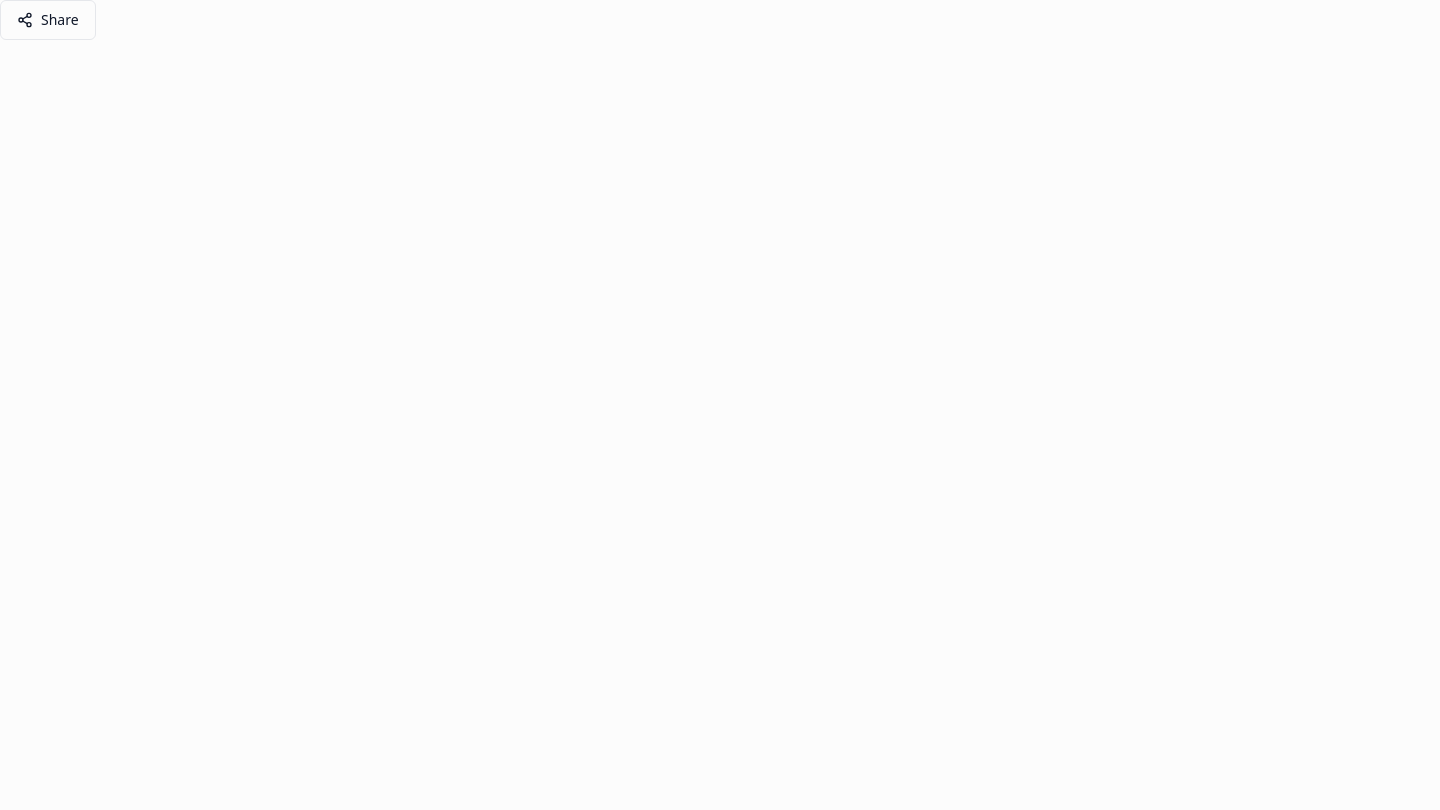
Test: ShareCompanyDialog › shares all analyses only when the checkbox is selected
This screenshot has width=1440, height=810.
Later steps or results of the test are not shown.
Click the button "Share".
click(48, 20)  # box [0,0,96,40]
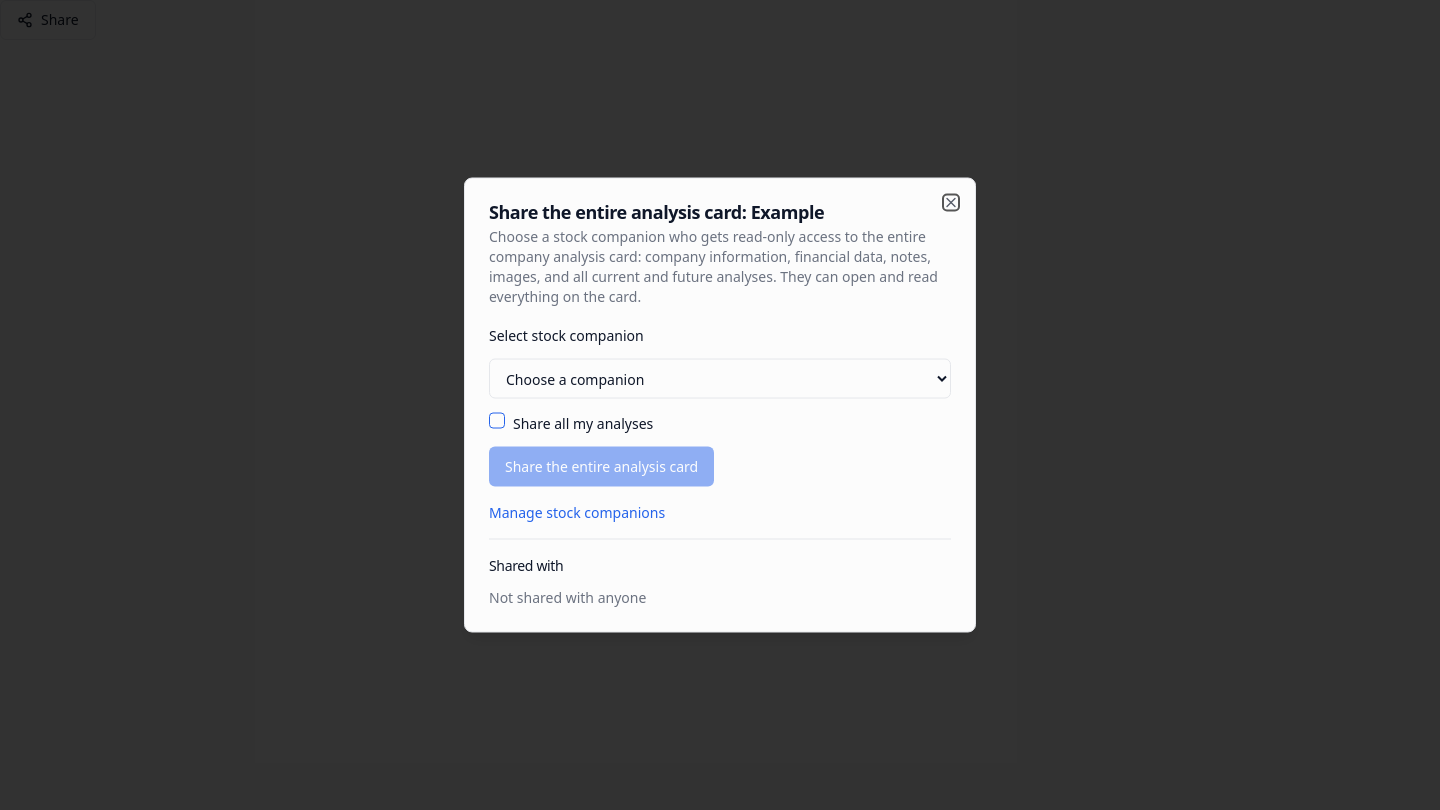
Select "Reader (reader@example.com)" in the dropdown labelled "Select stock companion" at (720, 378), box [489,358,951,398]
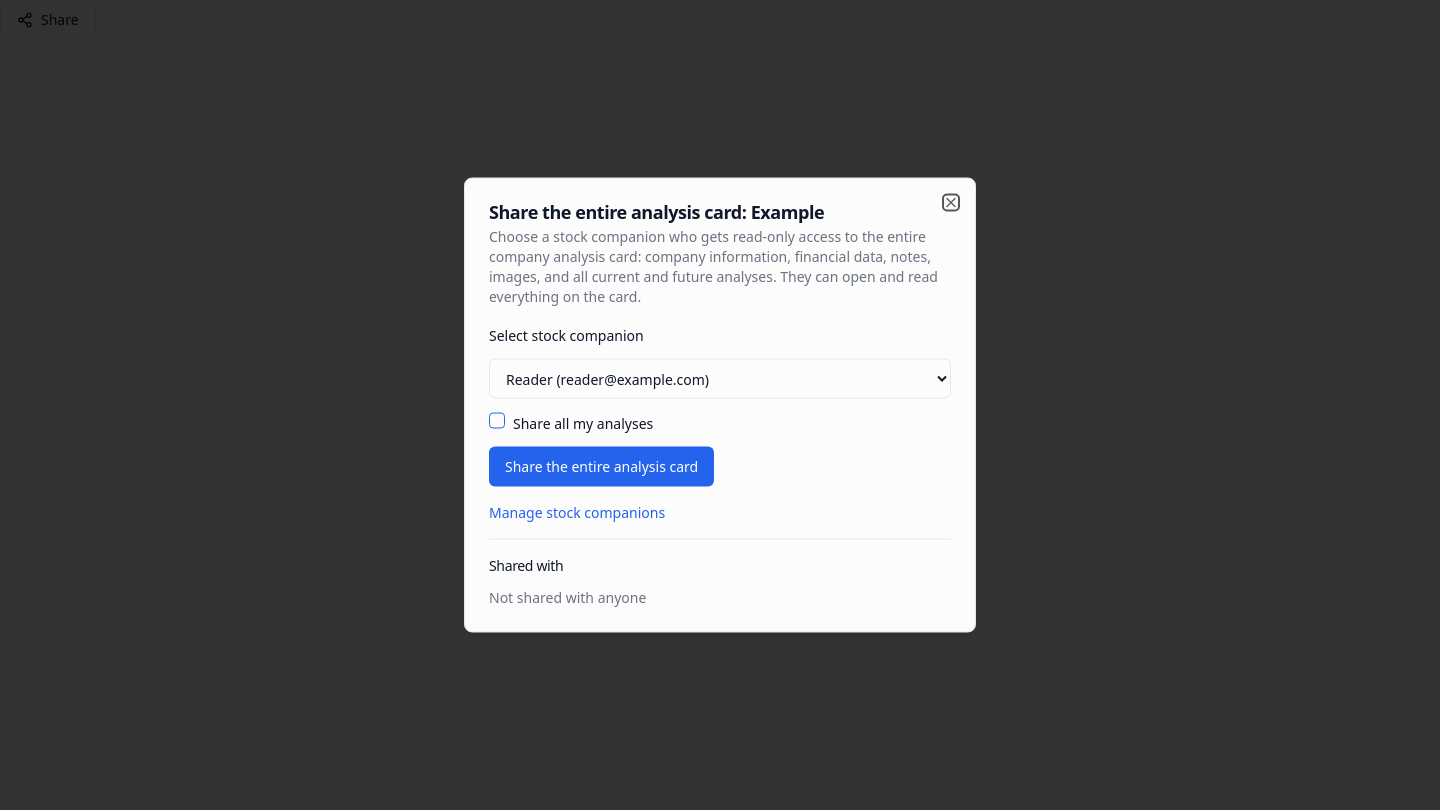
Click the checkbox named "Share all my analyses".
click(497, 420)  # box [489,412,505,428]
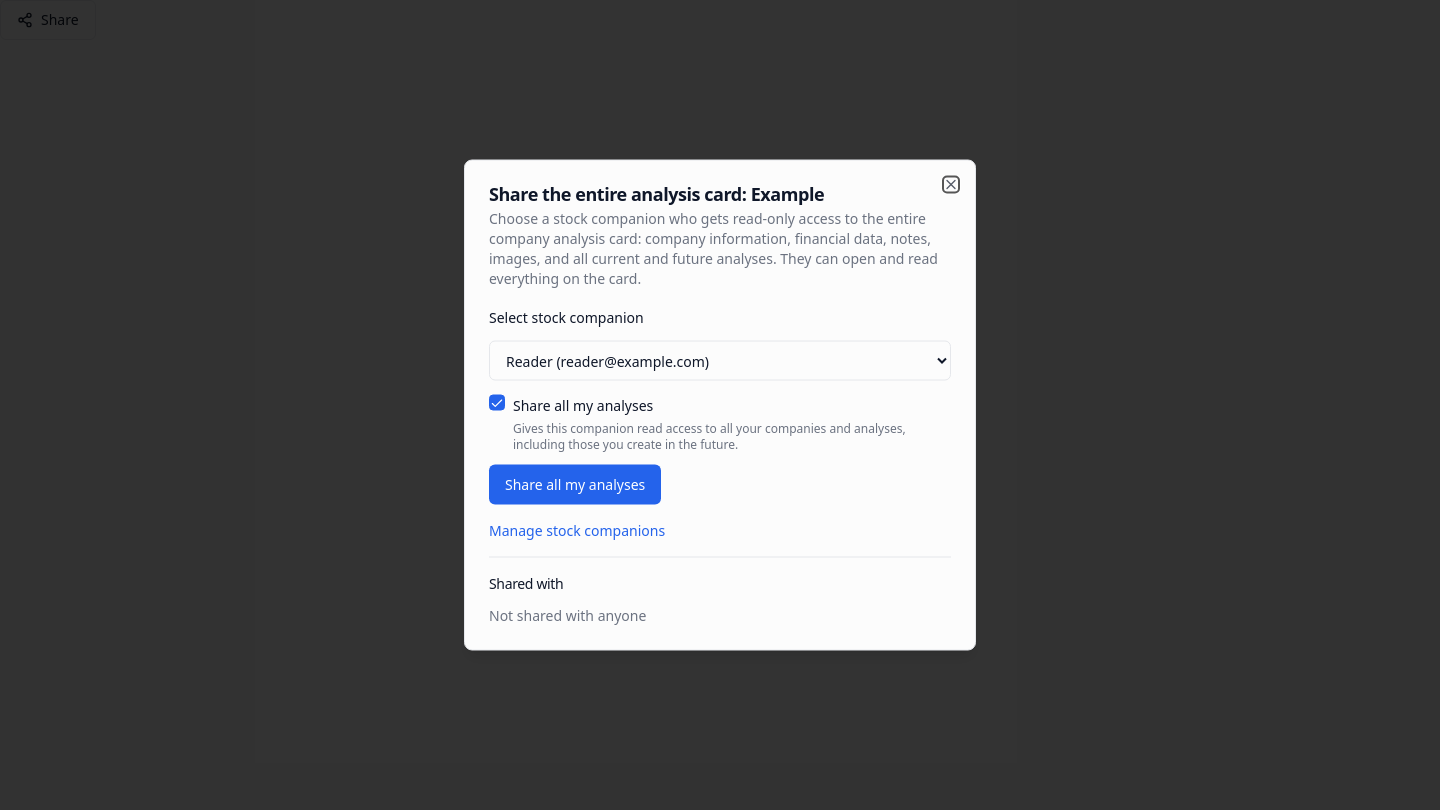
Expected: the text "including those you create in the future" is shown, [513,420,906,452]
